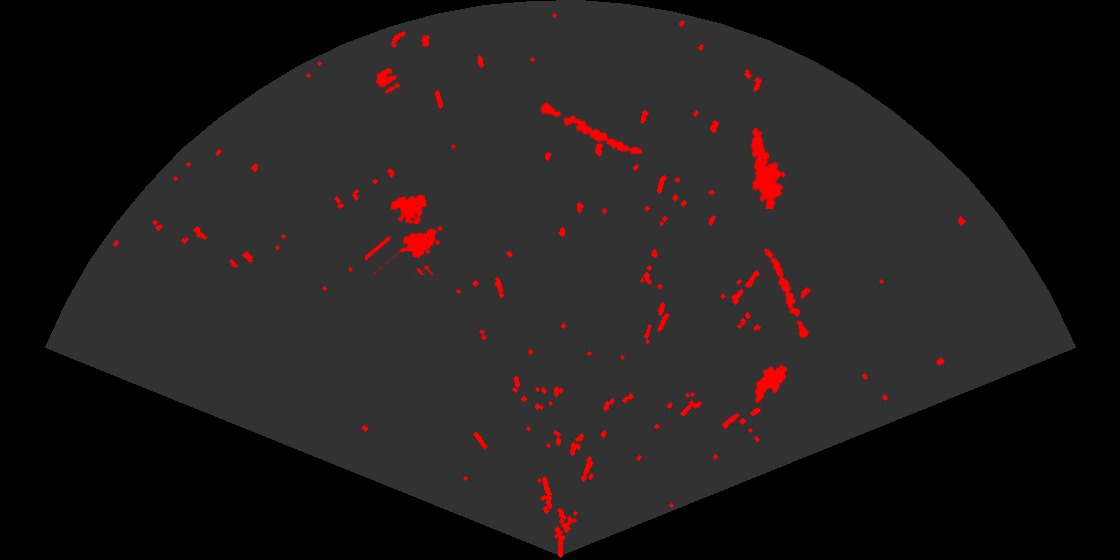AUV: (753, 363, 789, 405)
ball: (374, 67, 402, 95)
cage: (365, 193, 444, 275)
chain: (539, 101, 644, 156), (763, 247, 811, 340)
frogman: (749, 126, 788, 209)
